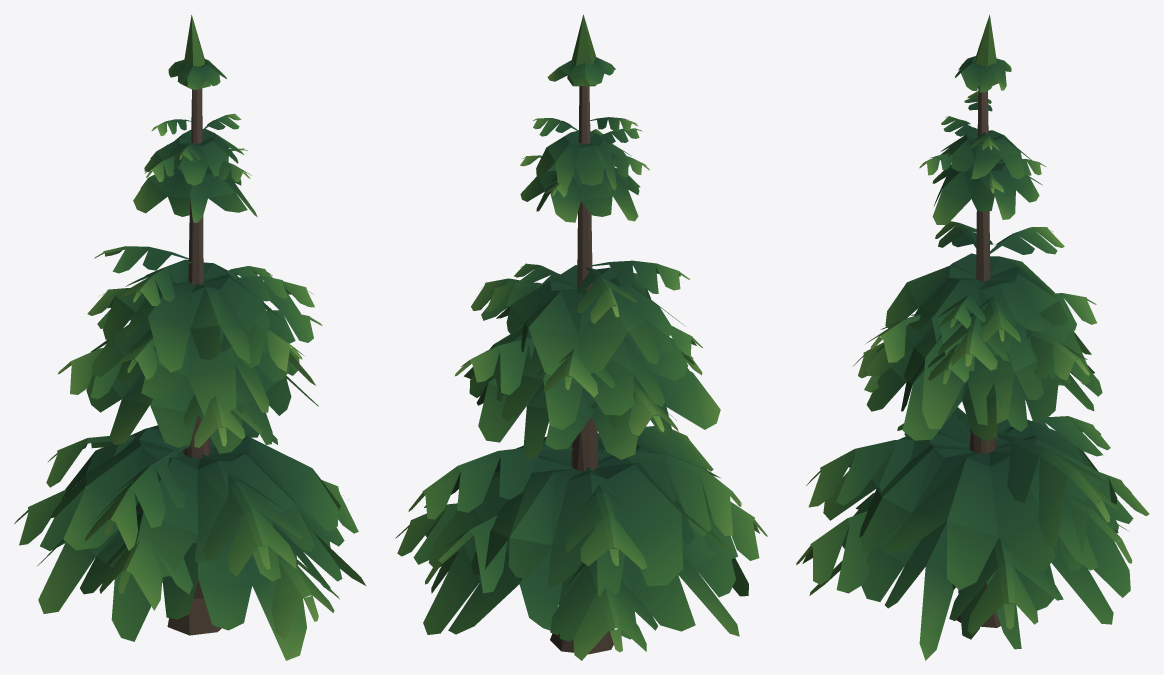
The model's file is spruce_S_normal_std_layered_s25.glb.
The picture shows the model from 3 angles, left to right: view 1: azimuth 30°, elevation 25°; view 2: azimuth 150°, elevation 25°; view 3: azimuth 270°, elevation 25°; orthographic projection. The views are drawn at different scales.
Visible parts, largest first — view 1: Tree; view 2: Tree; view 3: Tree.
Boxes of the visible parts, box(x1,y1,x2,y2) form: Tree: box(14, 15, 365, 660); Tree: box(395, 14, 767, 660); Tree: box(796, 14, 1149, 660).
Size of what is drawn, in the model's own units: 2.18 by 3.96 by 2.11.
